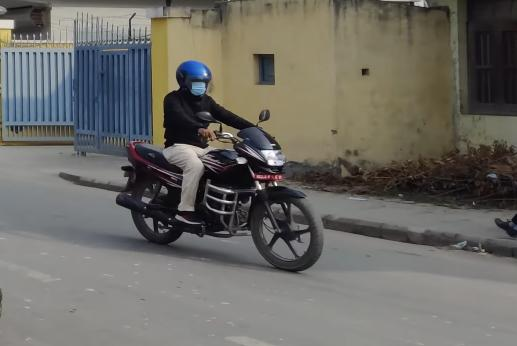bike: (106, 108, 333, 276)
